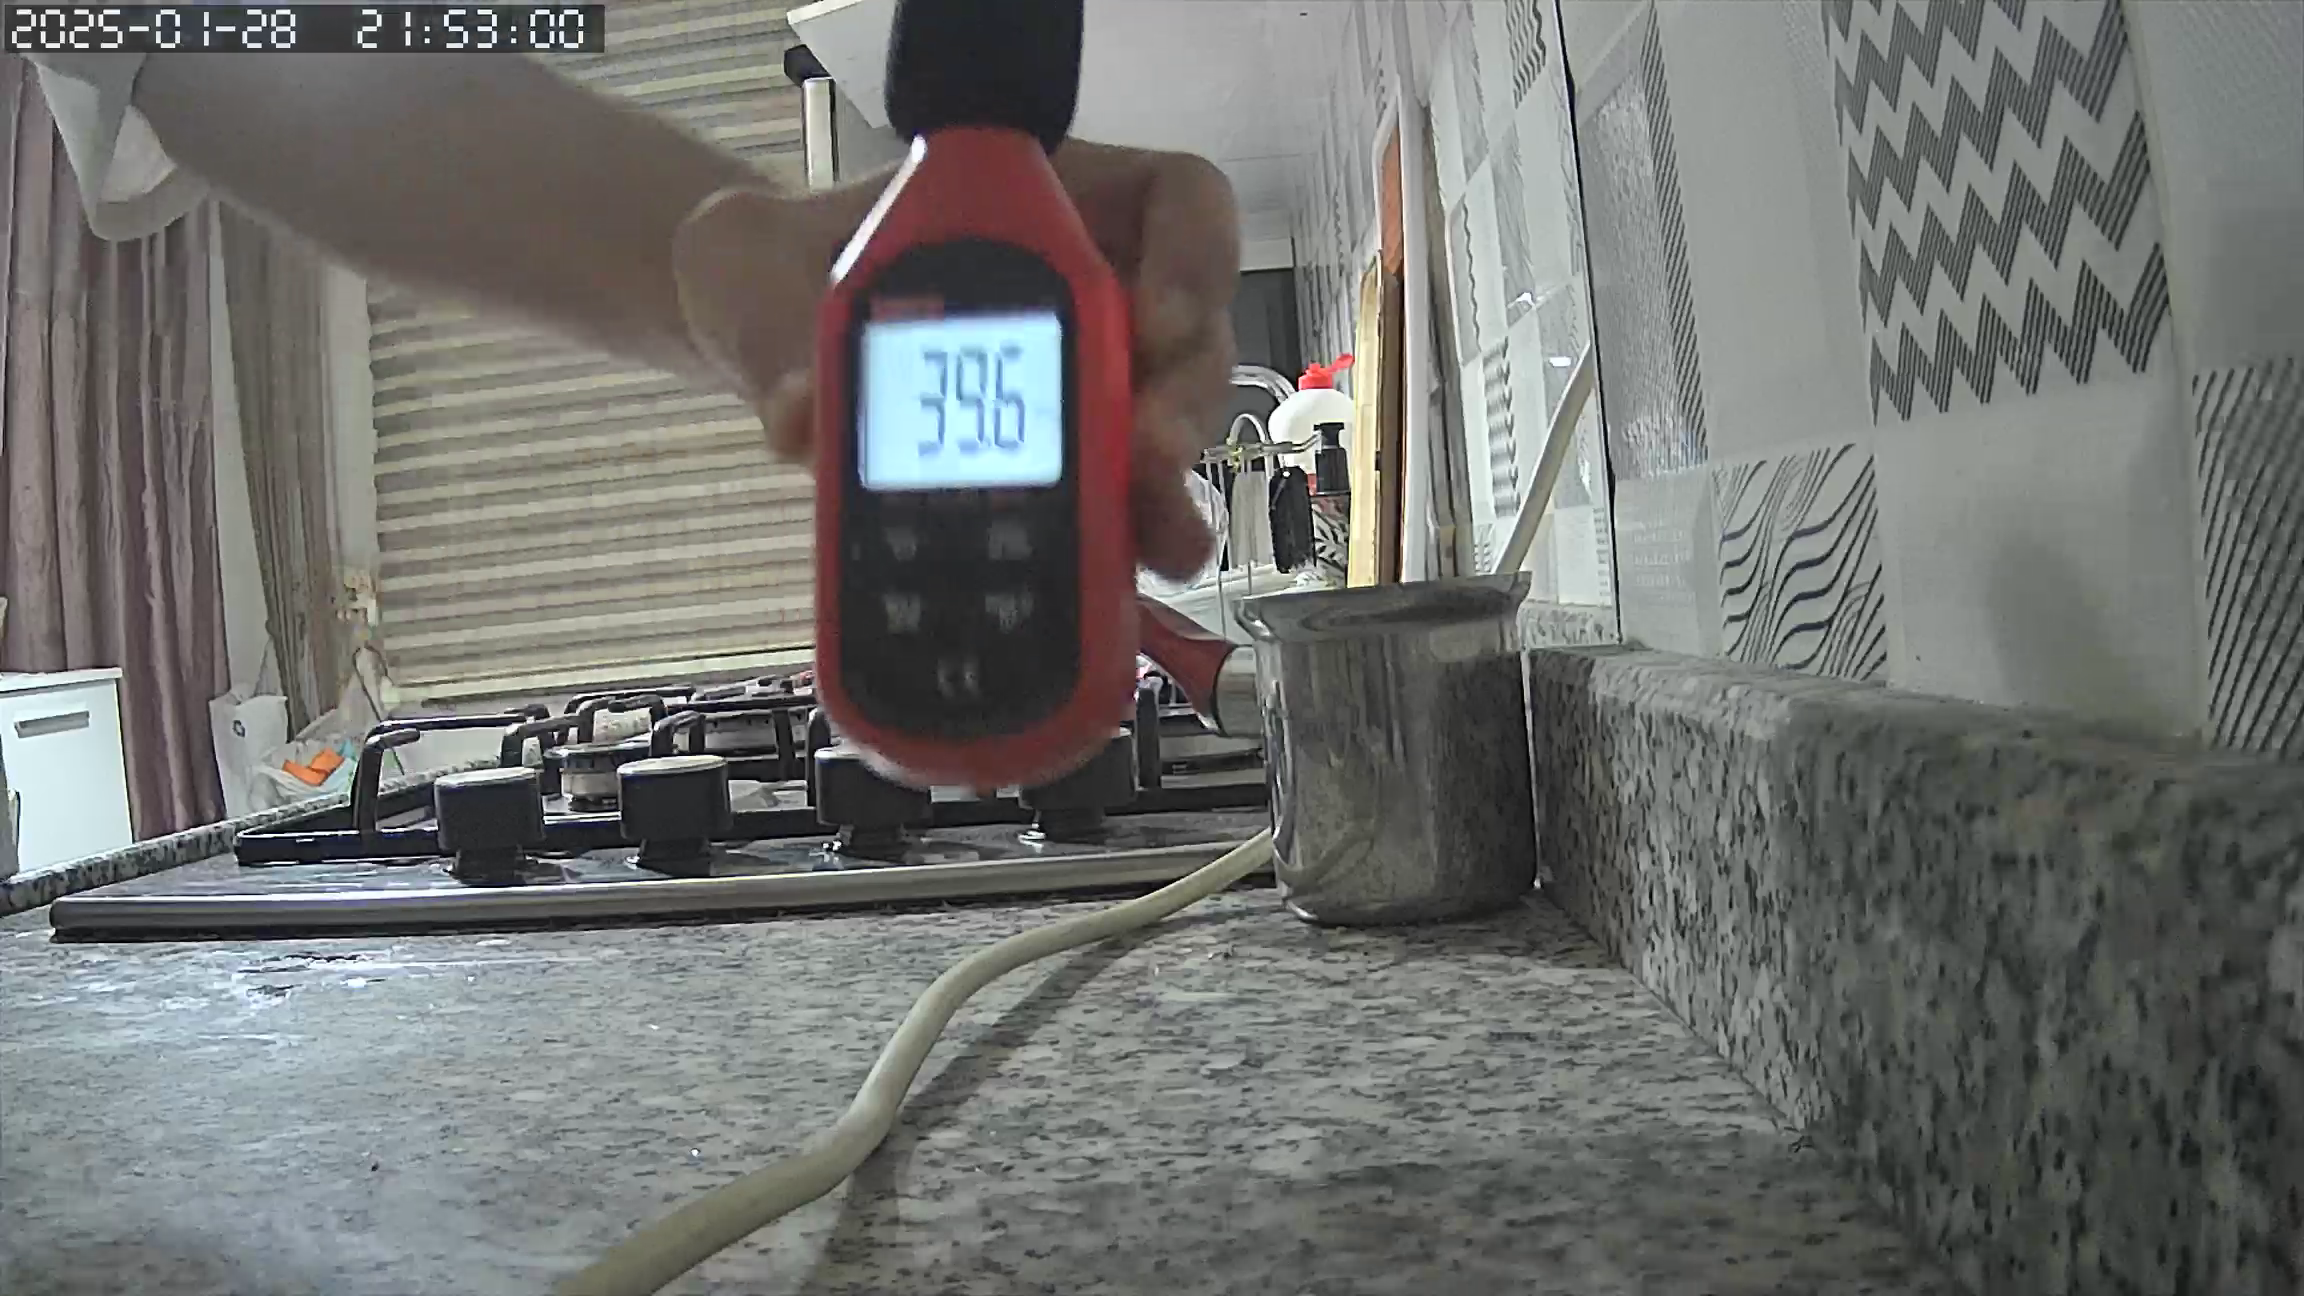screen: (858, 313, 1063, 487)
